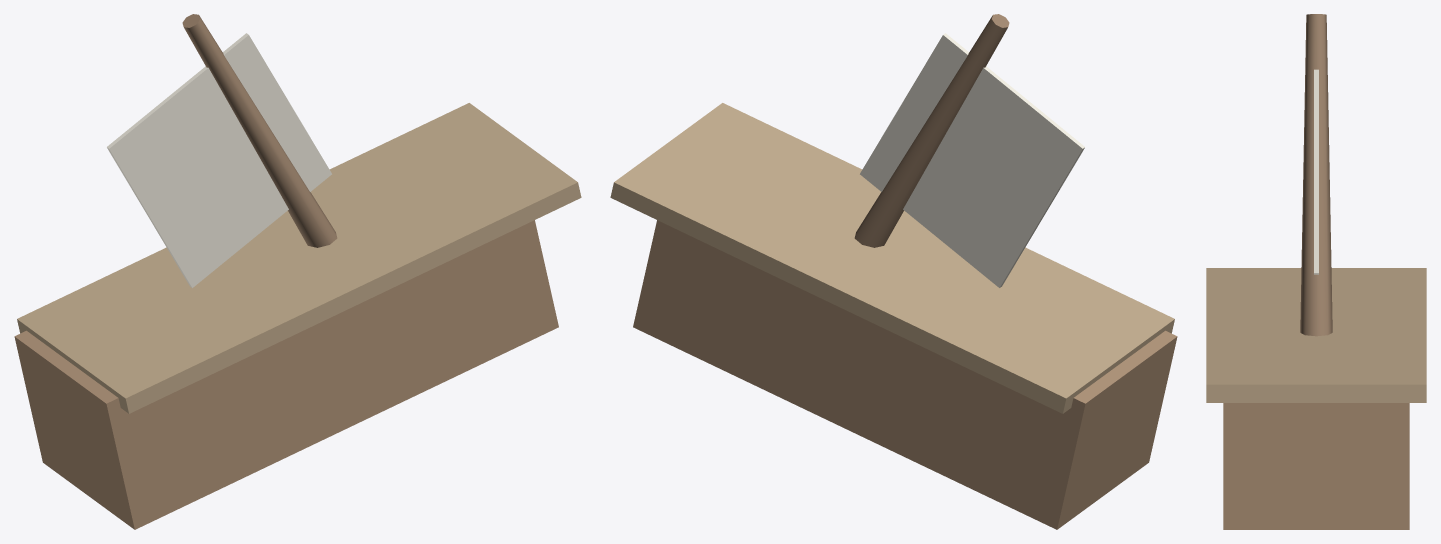
The model's file is shipwreck.gltf.
The picture shows the model from 3 angles, left to right: view 1: azimuth 30°, elevation 25°; view 2: azimuth 150°, elevation 25°; view 3: azimuth 270°, elevation 25°; orthographic projection.
Visible parts, largest first — view 1: Hull, Rail, Sail, Mast; view 2: Hull, Rail, Sail, Mast; view 3: Rail, Hull, Mast, Sail.
Part boxes in pixels (bbox=[...]): Hull: bbox=[14, 220, 558, 529]; Rail: bbox=[17, 103, 581, 413]; Sail: bbox=[107, 33, 331, 287]; Mast: bbox=[182, 14, 337, 247]; Hull: bbox=[633, 220, 1177, 529]; Rail: bbox=[610, 103, 1174, 413]; Sail: bbox=[860, 33, 1084, 287]; Mast: bbox=[854, 14, 1009, 247]; Rail: bbox=[1206, 268, 1426, 402]; Hull: bbox=[1223, 403, 1409, 529]; Mast: bbox=[1300, 14, 1332, 336]; Sail: bbox=[1314, 69, 1318, 274].
Bounding box in the file's own units: 6.44 × 6 × 2.6.
